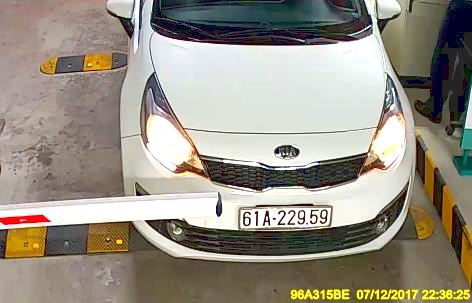plate: (233, 201, 337, 234)
